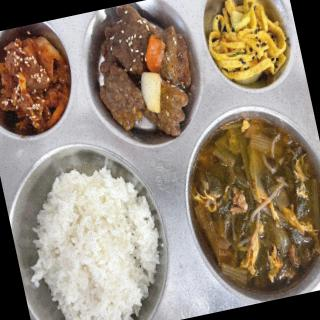Nasi: (14, 156, 175, 320)
